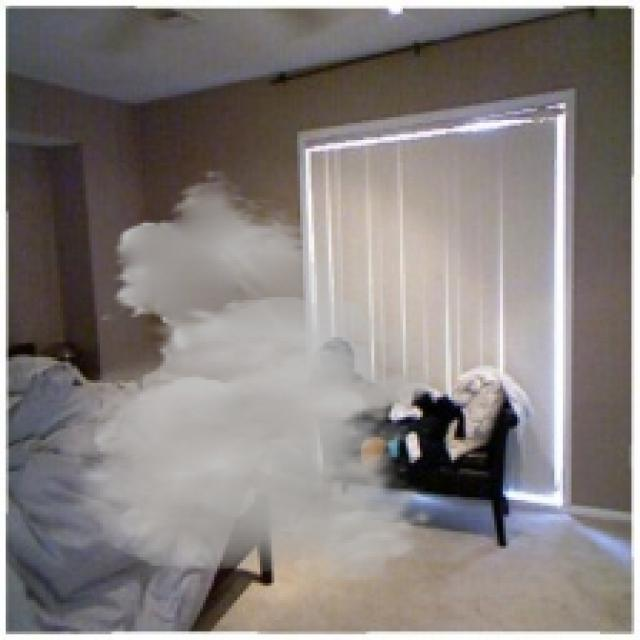smoke: (26, 168, 440, 583)
